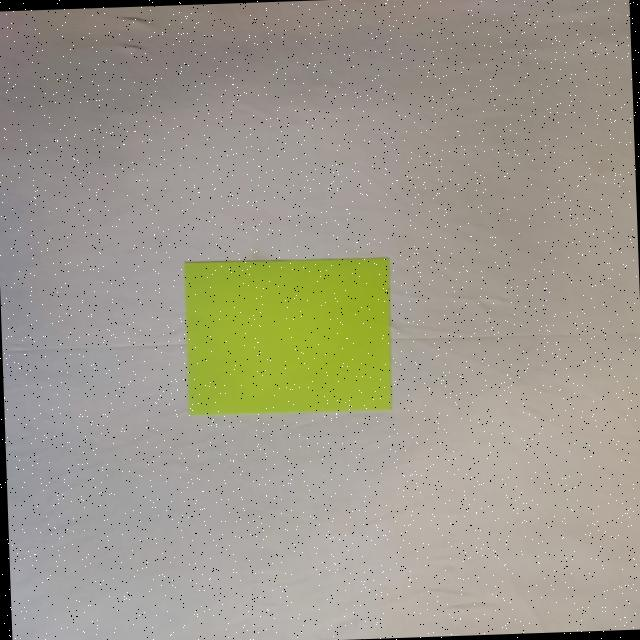Boxes: (179, 255, 391, 418)
